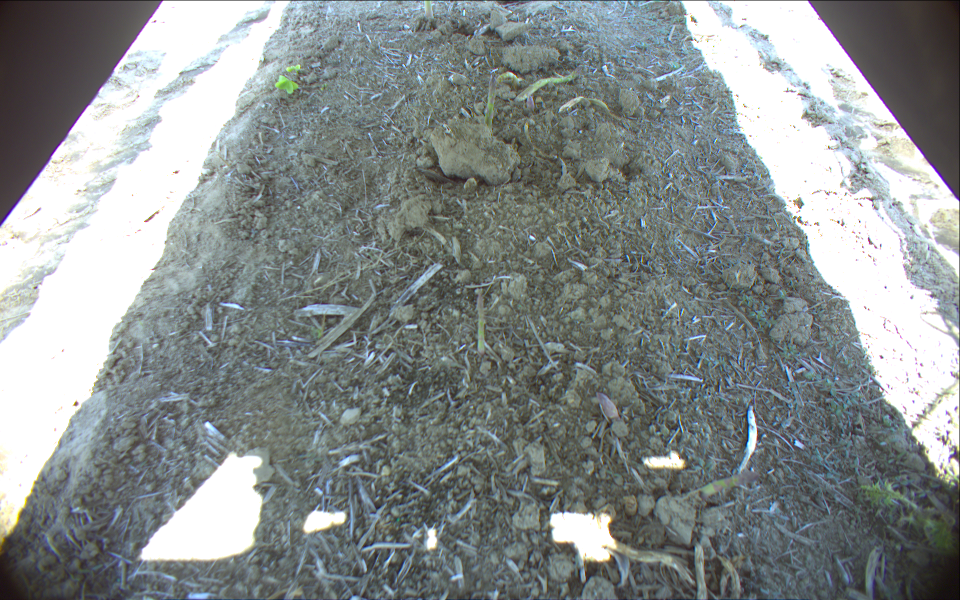aspa: (516, 64, 588, 102), (691, 471, 762, 498), (596, 392, 621, 424), (483, 69, 496, 130), (475, 287, 486, 355), (494, 69, 521, 88), (421, 1, 434, 21), (524, 93, 534, 110)
